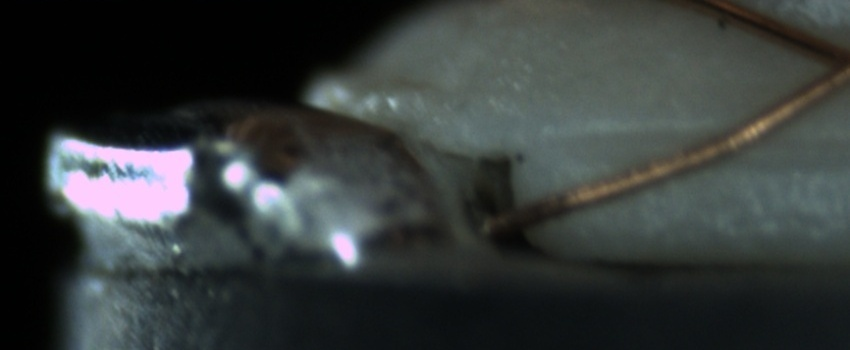CL: (802, 27, 849, 96)
DL: (536, 99, 845, 181)
